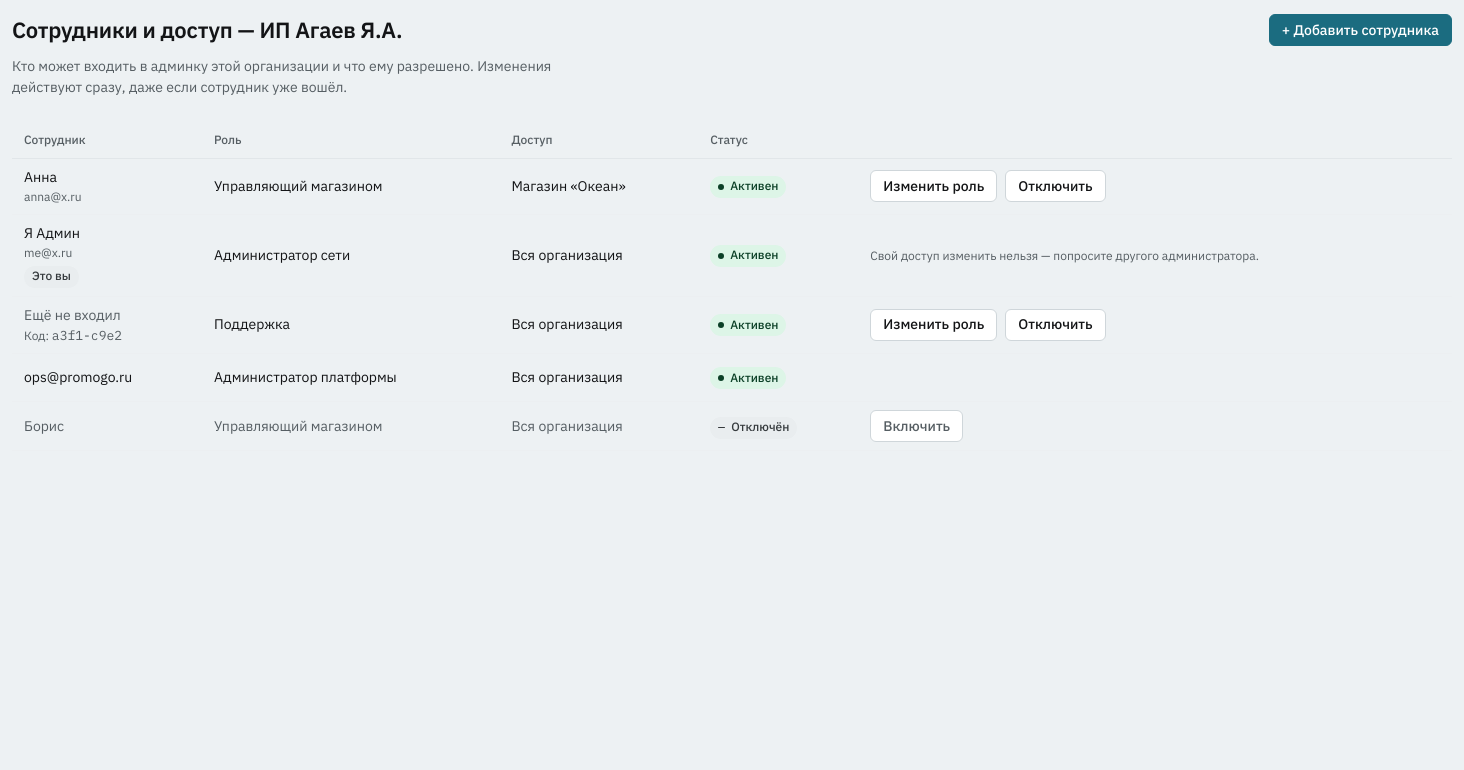
Scenario: StaffPage › grants access by pasted code, scoped to a store
Click the button "+ Добавить сотрудника".
click(1360, 30)  # box [1269,14,1452,46]
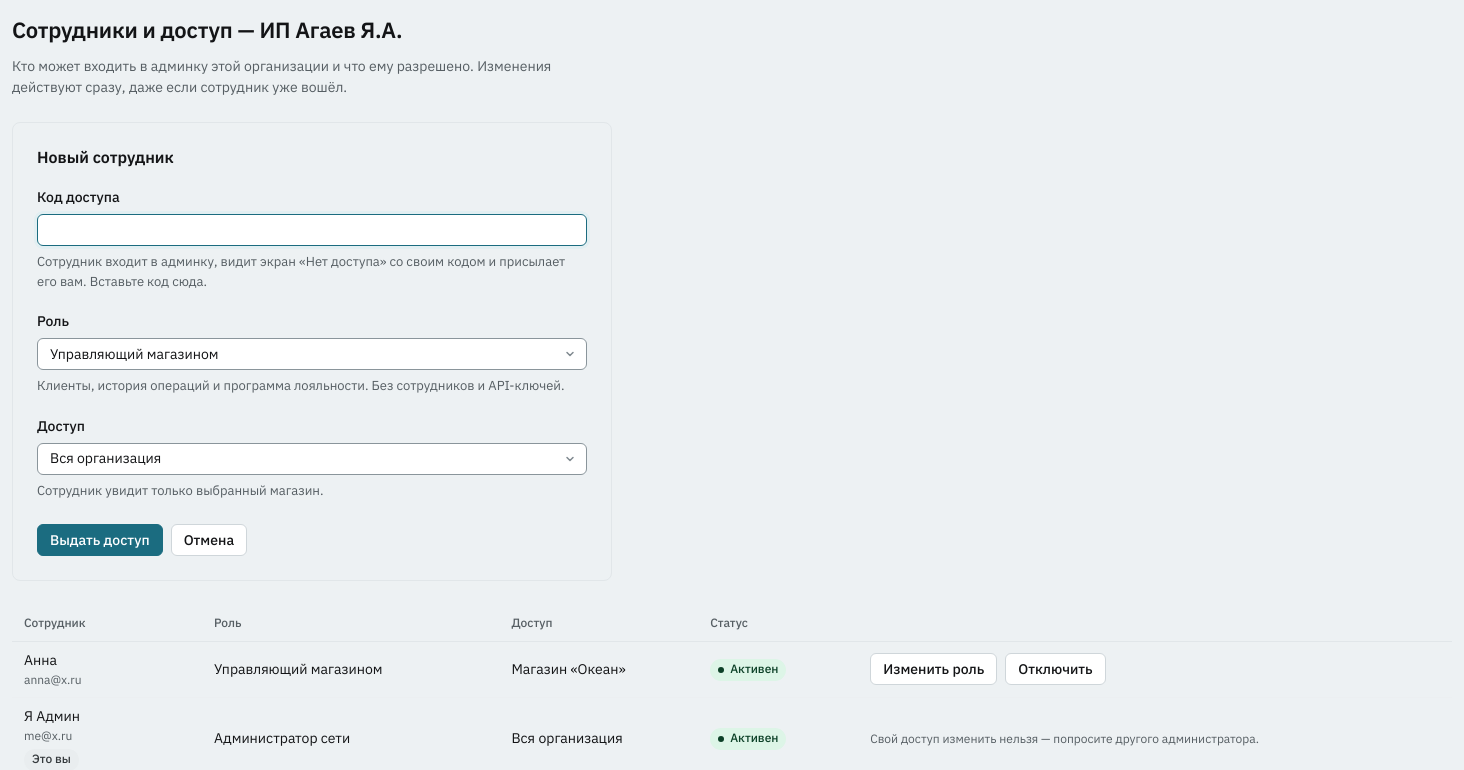
Expected: the option "Администратор платформы" is not shown
Click the button "Выдать доступ".
click(100, 540)  # box [37,524,163,556]
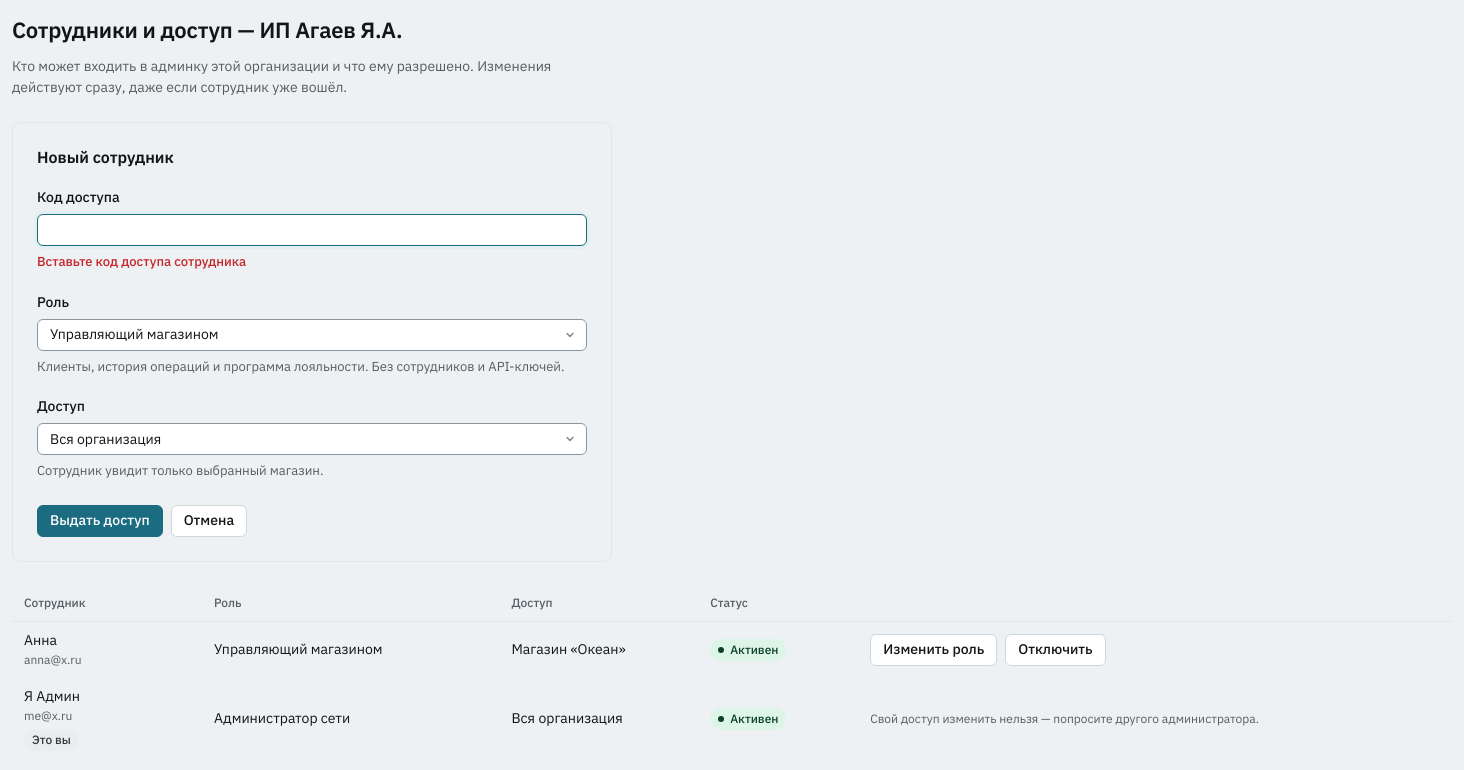
Now the text "Вставьте код доступа сотрудника" is shown, box [37,253,246,270]
Type "  new-code " into the field labelled "Код доступа".
click(312, 230); type("  new-code ")  # box [37,214,587,246]
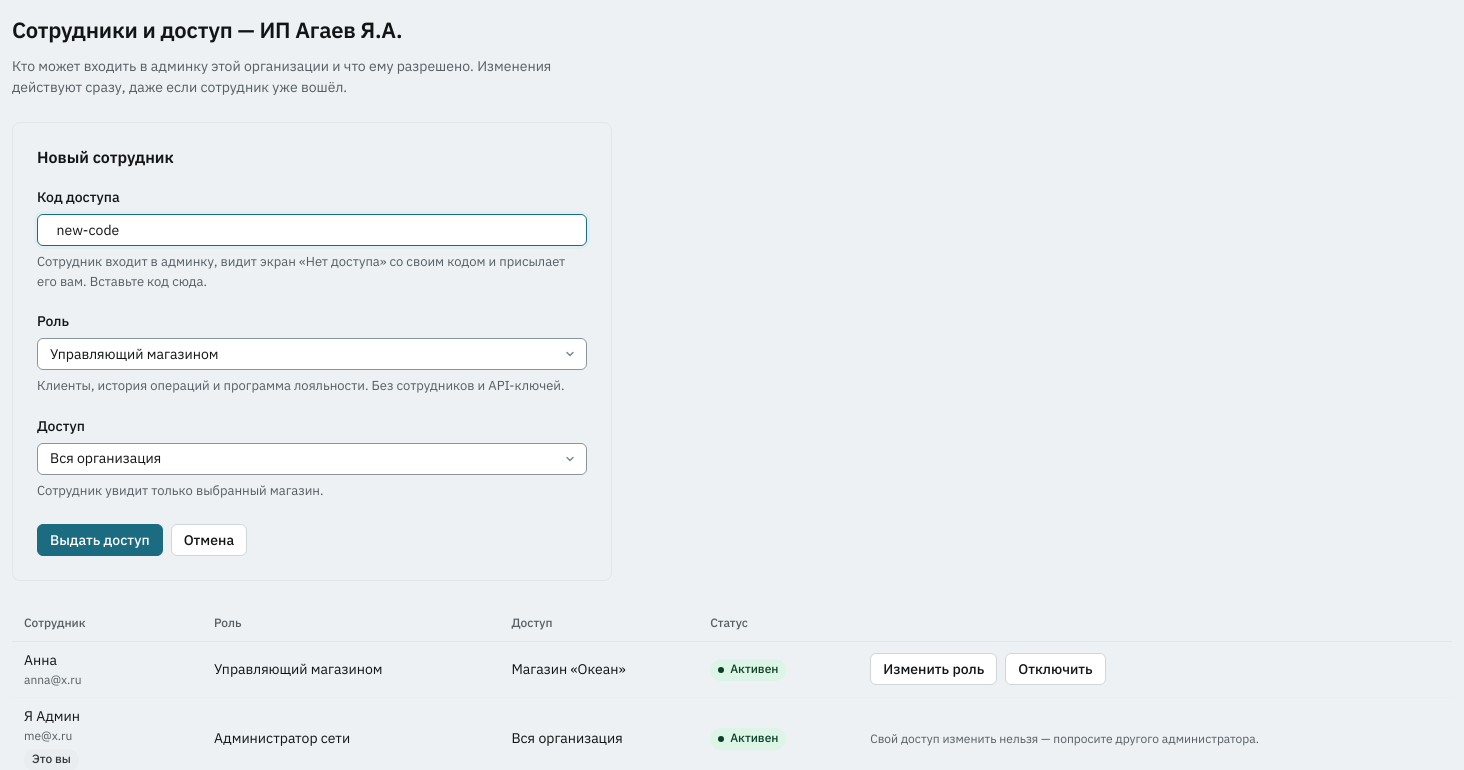
Select "Магазин «Океан»" in the dropdown labelled "Доступ" at point(312, 458), box [37,442,587,474]
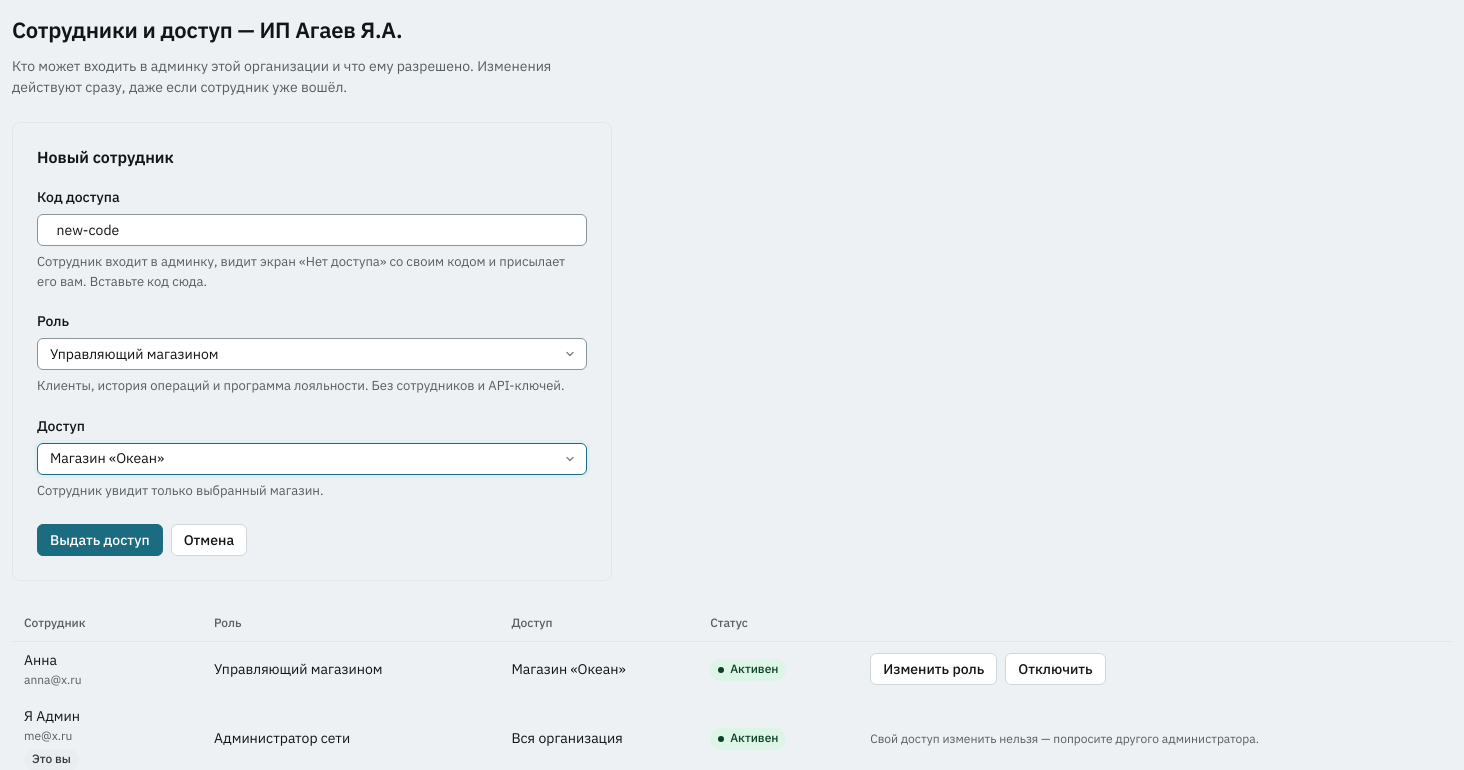
Click the button "Выдать доступ".
click(100, 540)  # box [37,524,163,556]
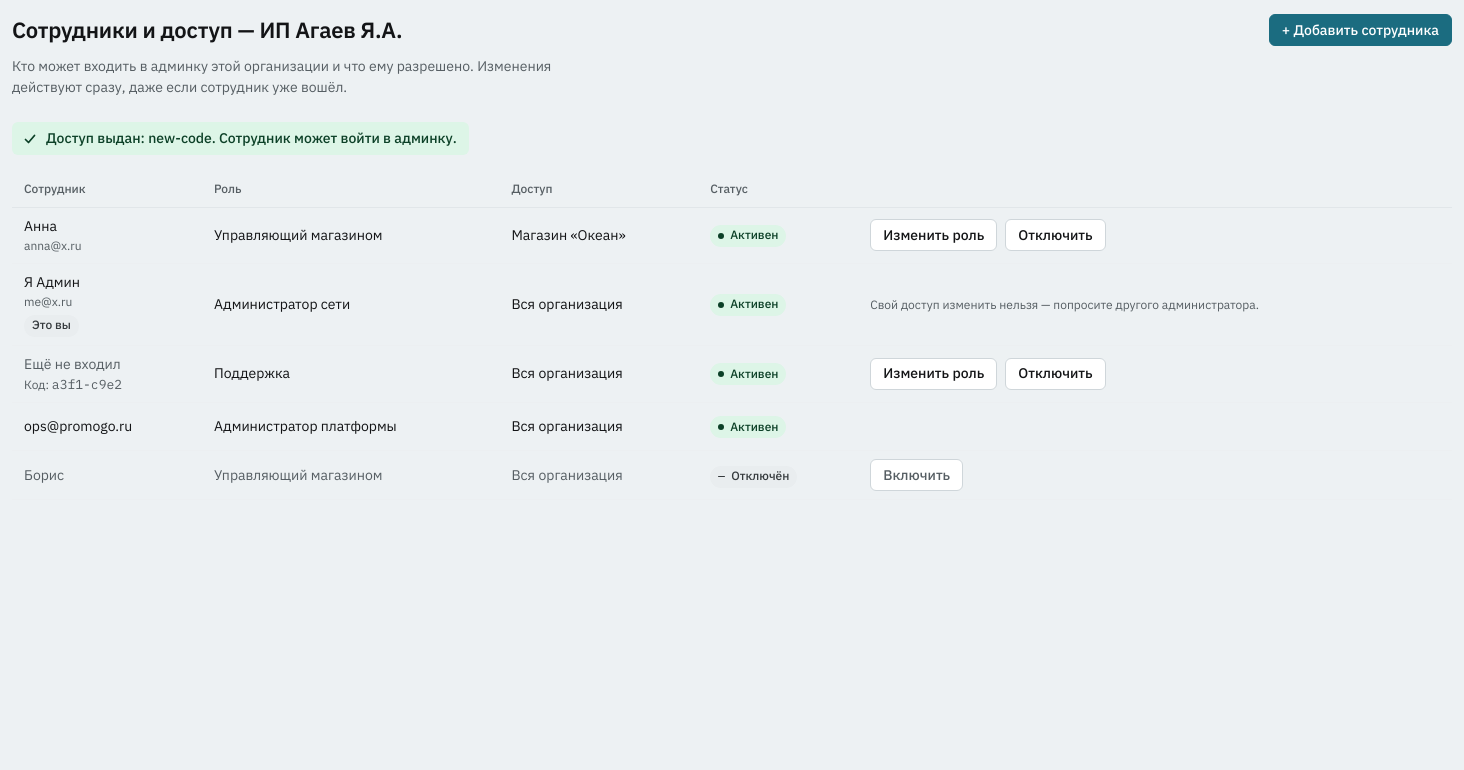
Now the text "Доступ выдан: new-code. Сотрудник может войти в админку." is shown, box [12,122,469,155]
